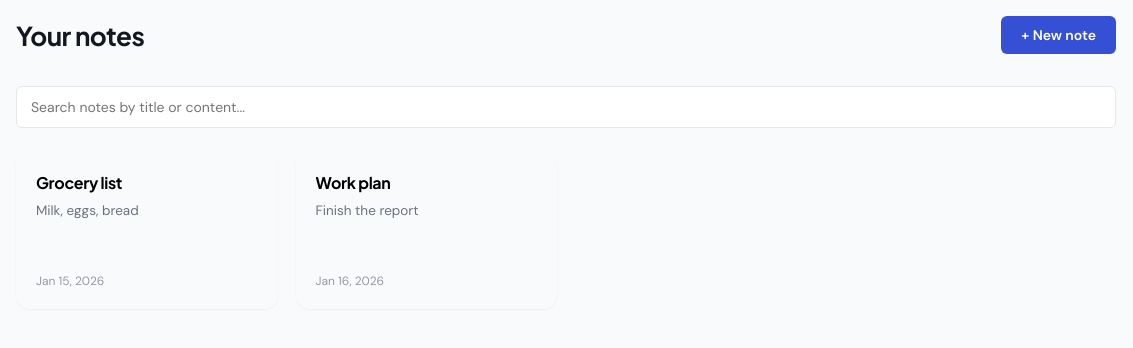
Scenario: Dashboard › shows a no-results message when search matches nothing
Expected: the heading "Grocery list" is shown, [36,172,122,193]
Type "nonexistent term" into the field labelled "Search notes".
click(566, 107); type("nonexistent term")  # box [16,86,1116,128]
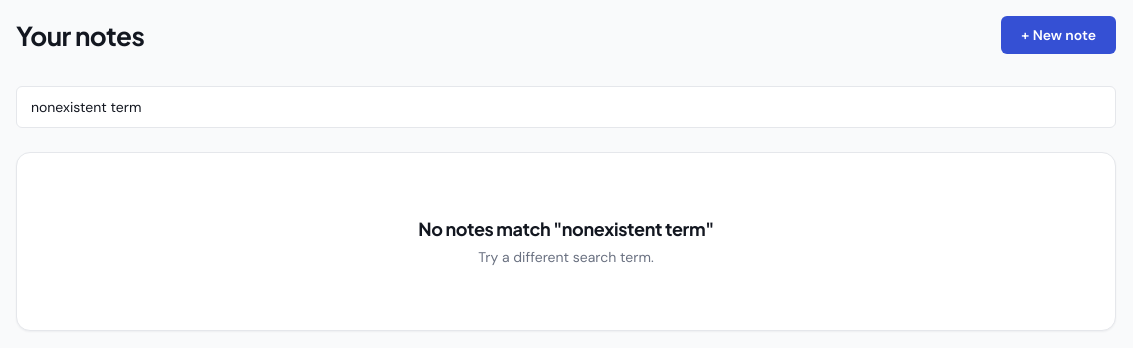
Expected: the heading "No notes match \"nonexistent term\"" is shown, [418,217,714,240]
